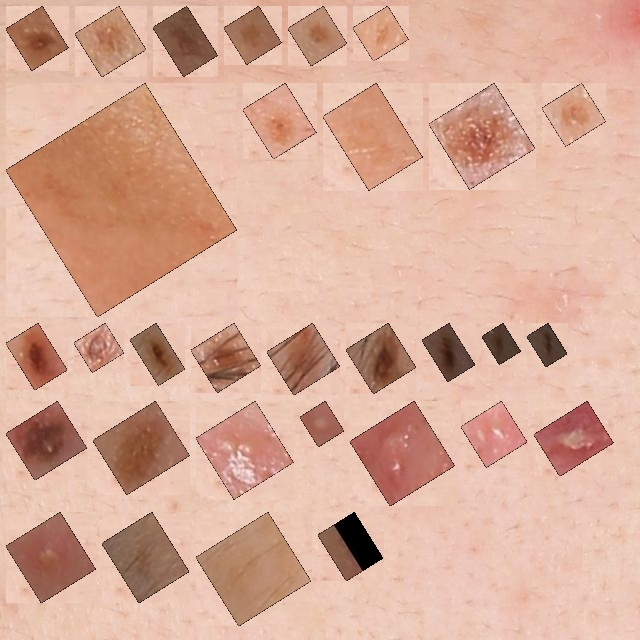melasma: (17, 94, 226, 306), (207, 523, 300, 615), (334, 94, 412, 179), (113, 523, 178, 592), (329, 523, 372, 570), (364, 17, 397, 50)
nevus: (440, 94, 524, 178), (104, 412, 179, 483), (17, 412, 76, 469), (278, 334, 329, 384), (86, 17, 135, 66), (357, 334, 405, 383), (202, 334, 250, 381), (164, 17, 207, 65), (17, 334, 56, 379), (553, 94, 595, 135), (17, 17, 57, 59), (299, 17, 336, 55), (141, 334, 174, 374), (235, 17, 271, 53), (433, 334, 464, 370), (85, 334, 113, 361), (538, 334, 556, 356), (493, 334, 510, 353)
pustule: (361, 412, 444, 495), (207, 412, 282, 488), (17, 523, 85, 592), (545, 412, 602, 465), (472, 412, 516, 456), (311, 412, 333, 436)
